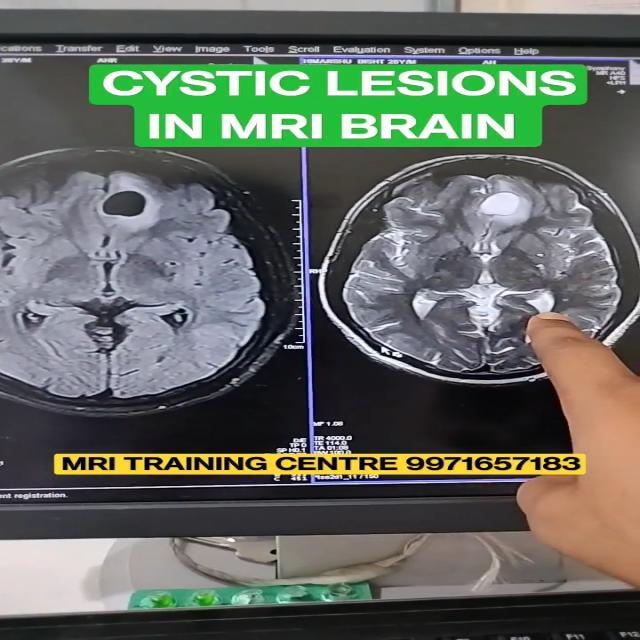tumor: (460, 167, 597, 237), (84, 175, 174, 232)
